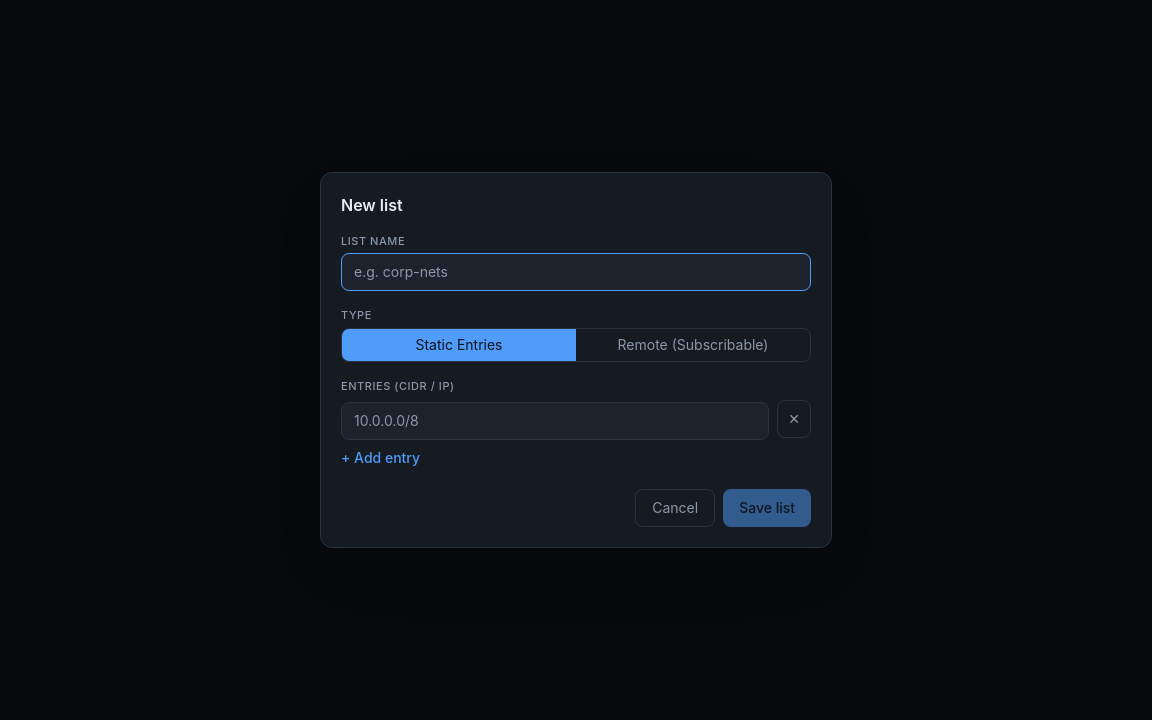
Test: ListEditor › rejects a duplicate list name
Type "corp" into the field with placeholder "e.g. corp-nets". click: (576, 272)
box: [341,253,811,291]
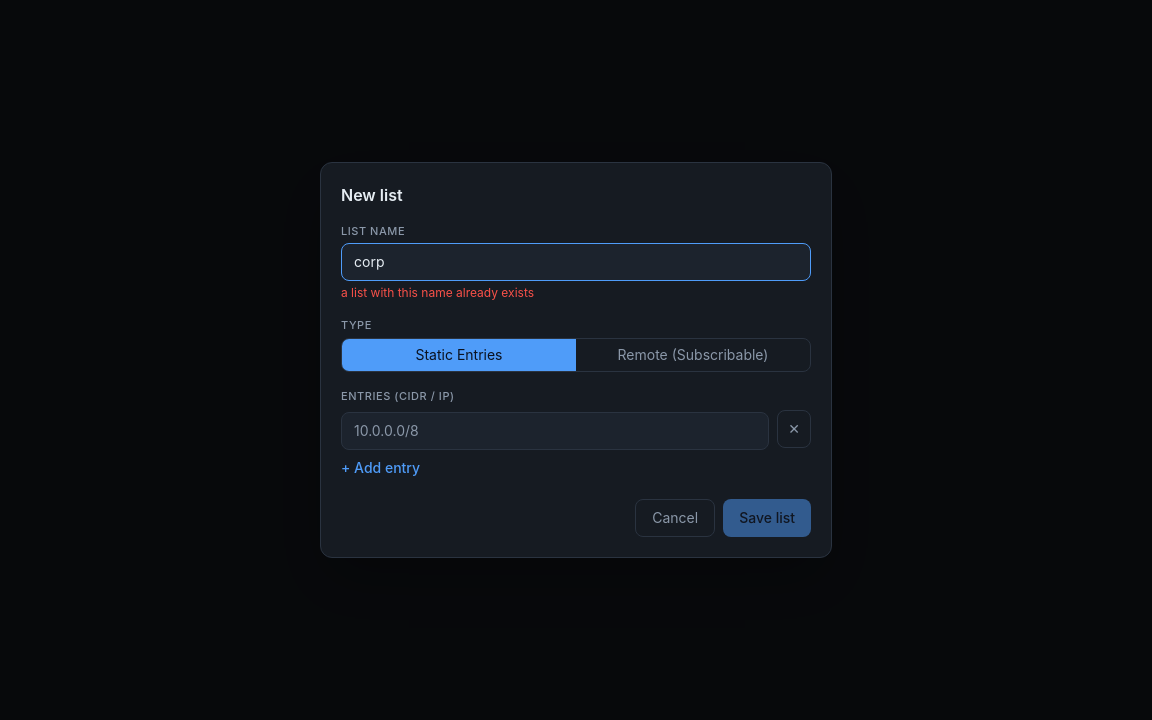
Now the text "a list with this name already exists" is shown, box [341,285,534,300]
